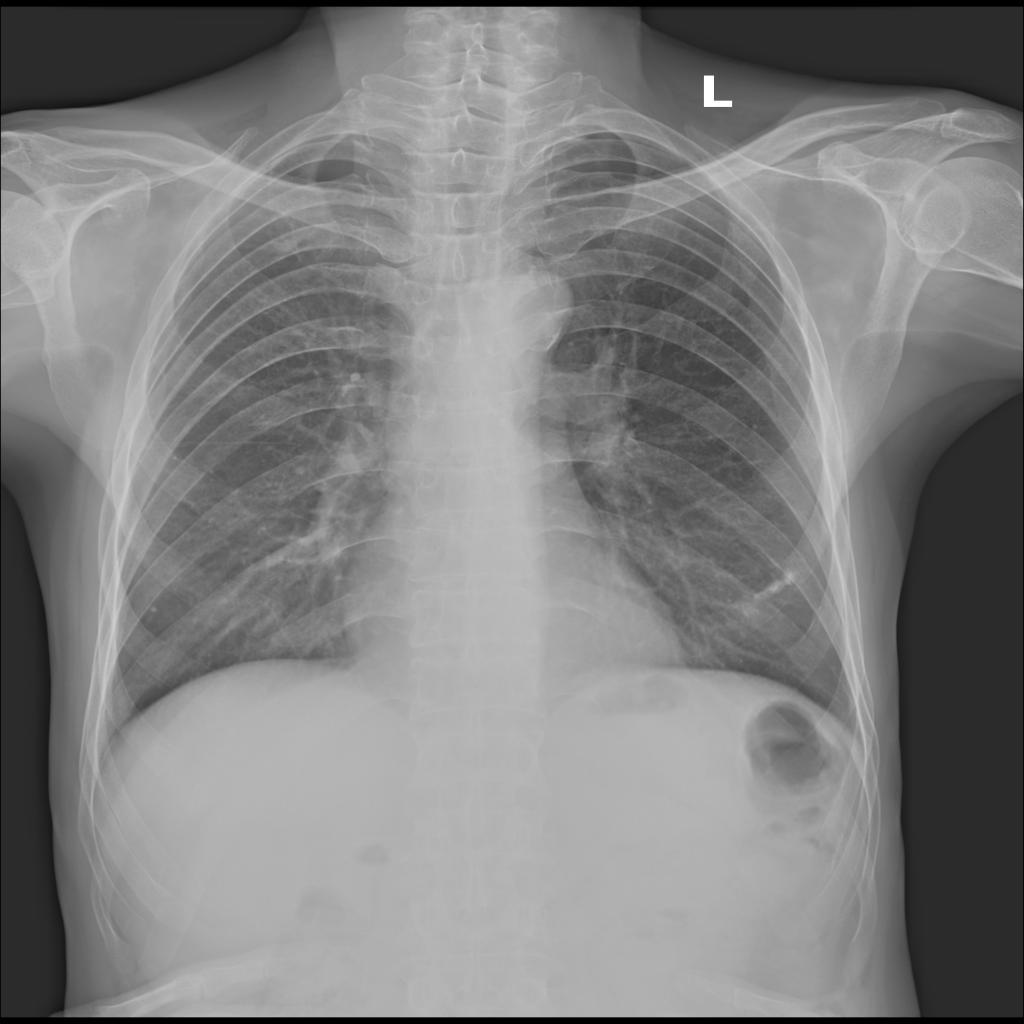Nodule: (274, 231, 318, 253)
